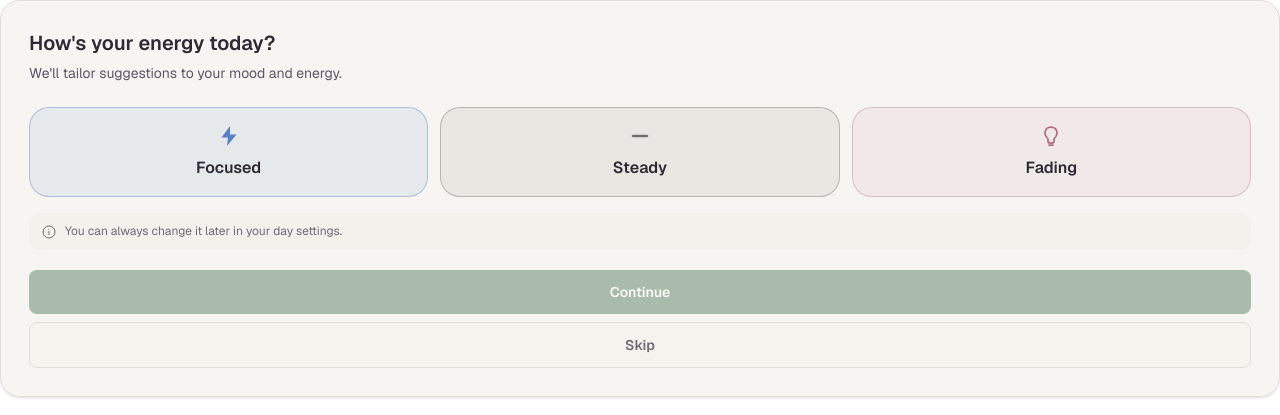
Test: SessionEnergyCard › keeps continue disabled until an energy is picked
Expected: the button with test id "session-energy-continue-btn" is disabled, [29,270,1251,314]
Click the button with test id "check-in-energy-focused" at (229, 168), box [29,107,428,197]
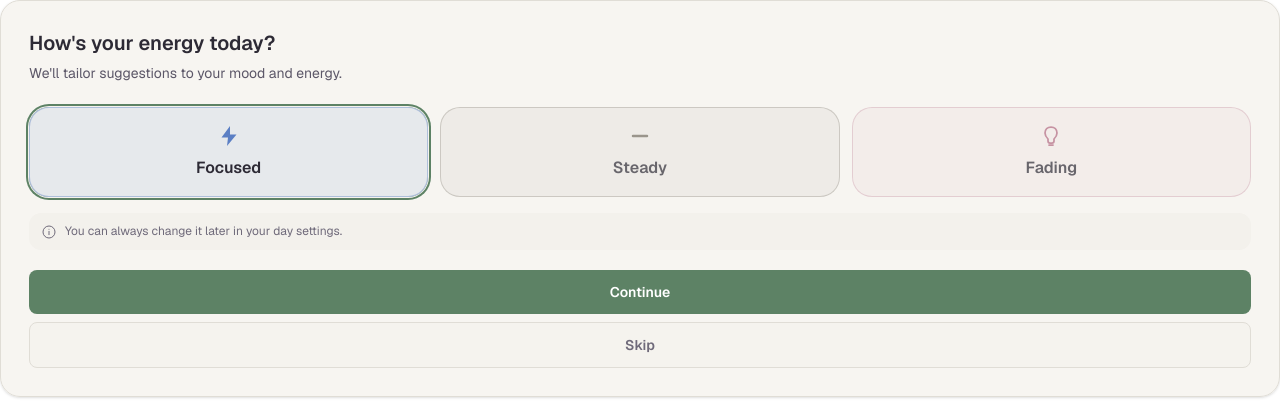
Result: the button with test id "session-energy-continue-btn" is enabled at [29,270,1251,314]
